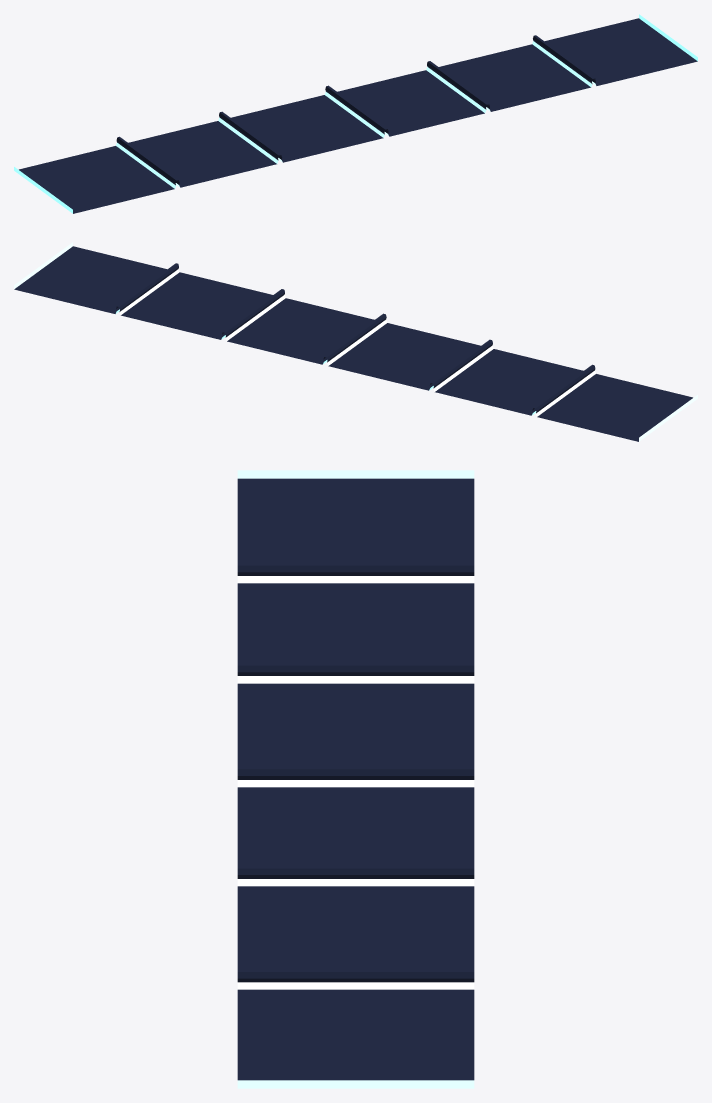
Rendered from Basic_Track_00.fbx.
The picture shows the model from 3 angles, top to bottom: view 1: azimuth 30°, elevation 25°; view 2: azimuth 150°, elevation 25°; view 3: azimuth 270°, elevation 25°; orthographic projection. The views are drawn at different scales.
Visible parts, largest first — view 1: Basic_Track_00; view 2: Basic_Track_00; view 3: Basic_Track_00.
Part boxes in pixels (left/top/right/bottom): Basic_Track_00: left=14, top=14, right=697, bottom=213; Basic_Track_00: left=14, top=242, right=697, bottom=441; Basic_Track_00: left=237, top=470, right=474, bottom=1088.
Bounding box in the file's own units: 12082 × 152 × 1981.
